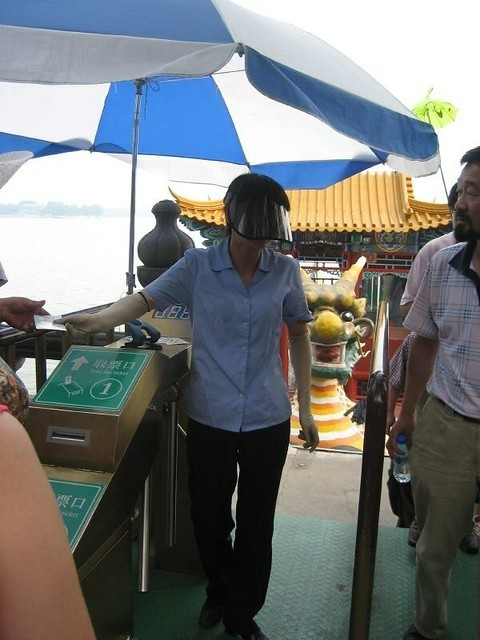face_no_mask: (450, 145, 477, 247)
